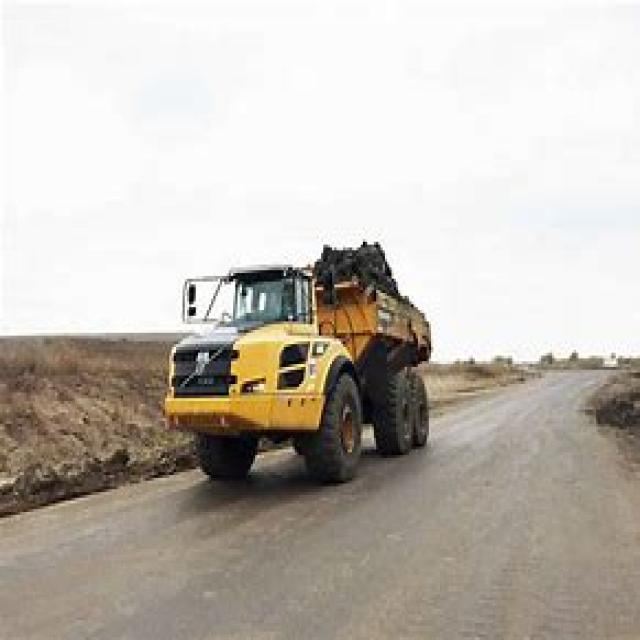dump_truck: (154, 230, 446, 481)
